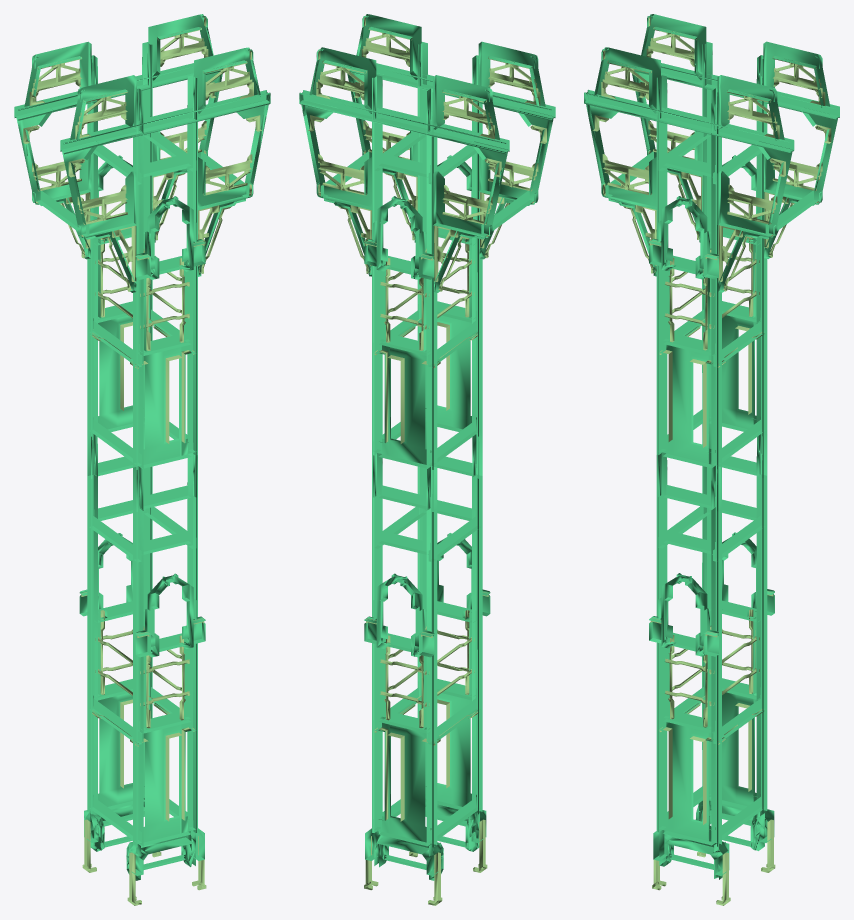
File: pipeline_support_d.glb
3 renders of one model, left to right at view 1: azimuth 30°, elevation 25°; view 2: azimuth 150°, elevation 25°; view 3: azimuth 330°, elevation 25°, orthographic.
Size of the model in its own units: 68.56 by 263 by 34.41.
